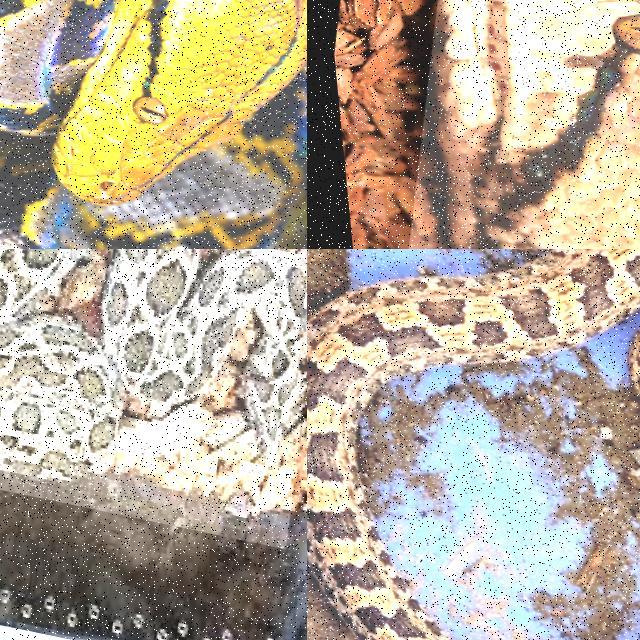Daboia siamensis: (0, 249, 306, 479)
Malayopython reticulatus: (0, 0, 306, 248), (435, 0, 639, 248)
Ovophis monticola: (307, 249, 639, 639)
snake: (307, 249, 639, 639), (0, 0, 306, 248), (0, 249, 306, 479), (435, 0, 639, 248)
